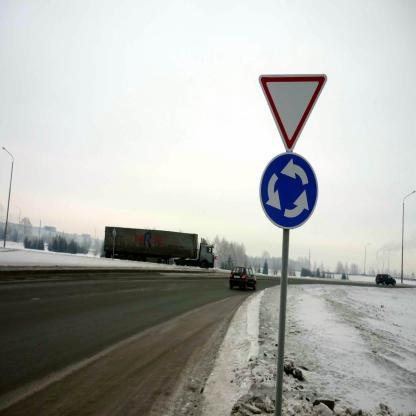road_sign: (260, 76, 327, 151), (261, 153, 318, 228)
